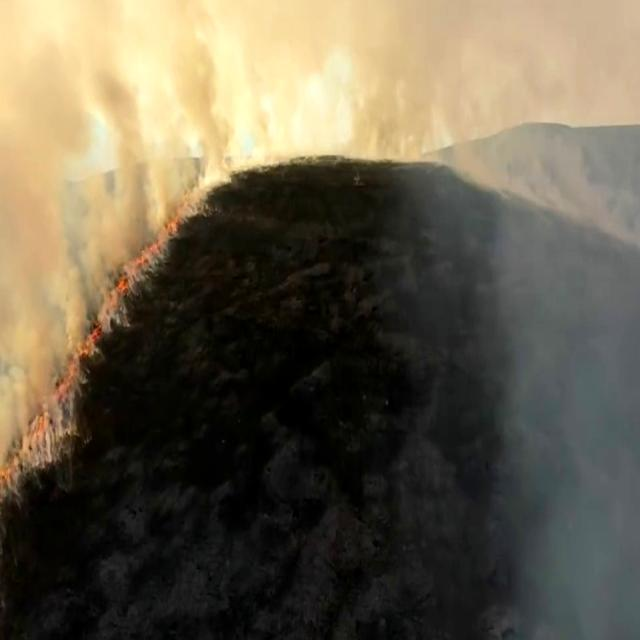smoke: (81, 66, 162, 257), (161, 36, 249, 194)
